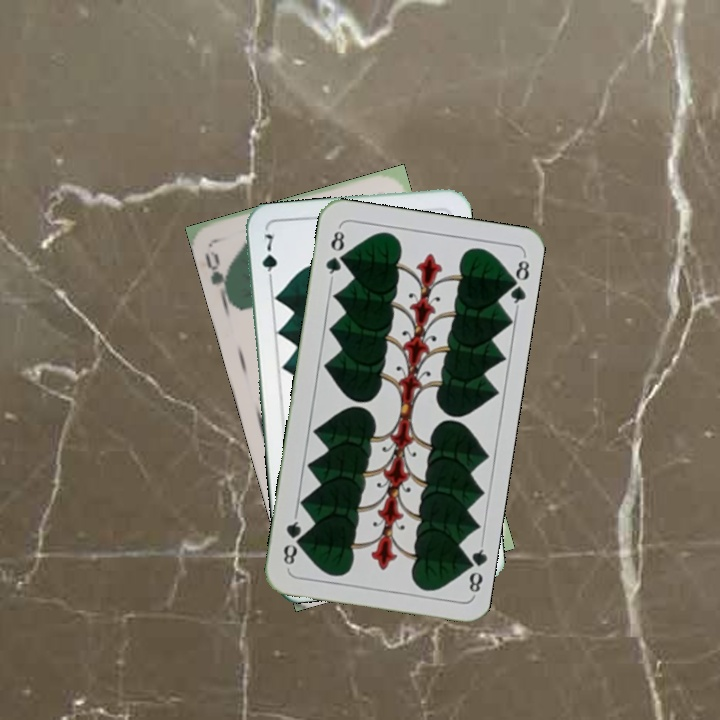G7: (258, 230, 280, 287)
G8: (459, 539, 489, 598), (321, 224, 347, 283)
GO: (201, 247, 232, 303)
